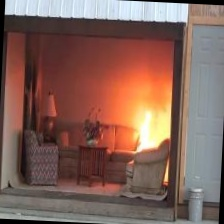fire: (134, 98, 162, 142)
